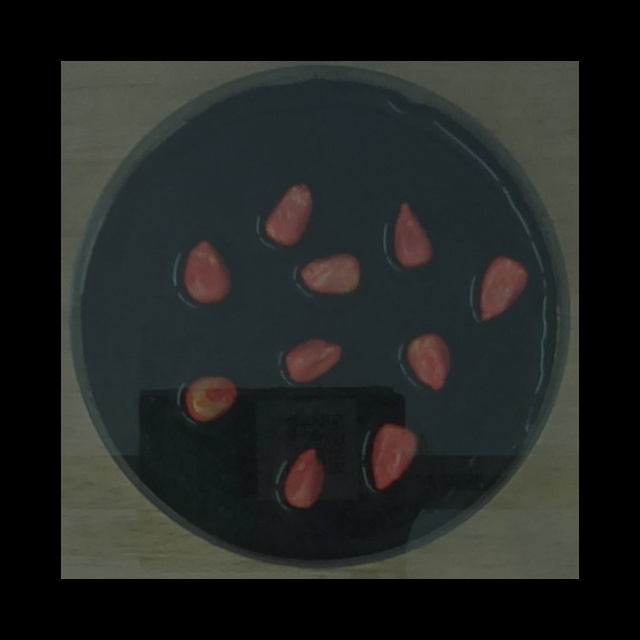Zea mays: (177, 234, 237, 309), (473, 251, 532, 327), (365, 417, 422, 495), (260, 177, 318, 252), (388, 196, 439, 273), (278, 441, 331, 514), (281, 331, 348, 388), (401, 326, 456, 395), (294, 247, 366, 298), (179, 370, 243, 425)
